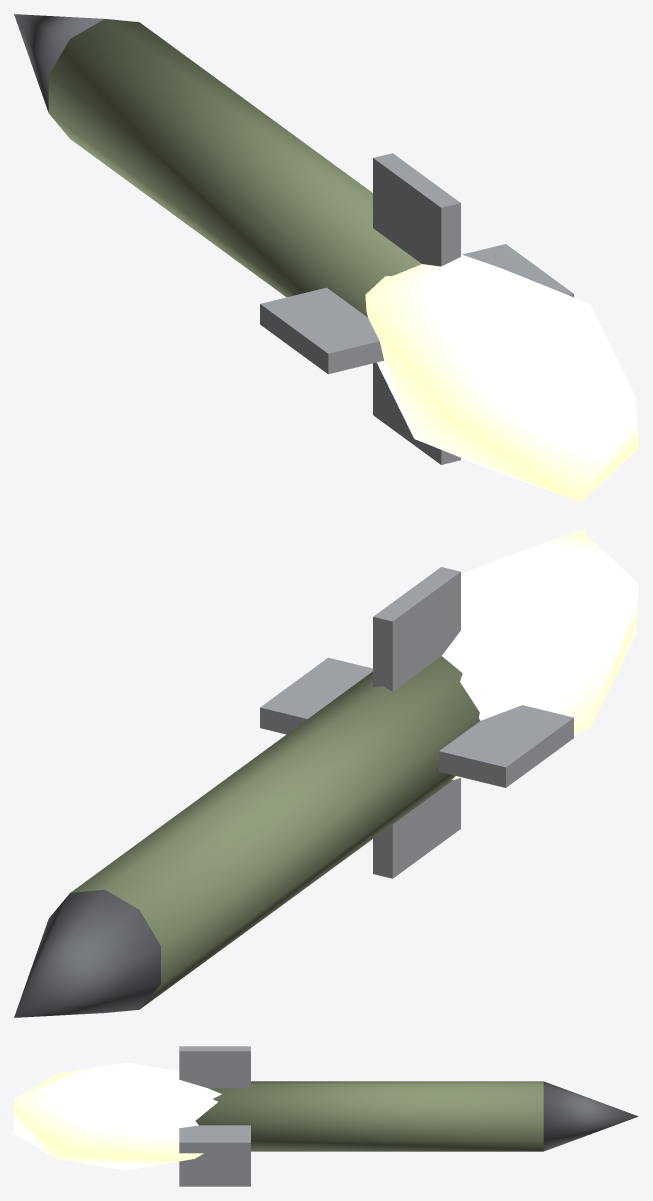
Rendered from rocket.gltf.
The picture shows the model from 3 angles, top to bottom: view 1: azimuth 30°, elevation 25°; view 2: azimuth 150°, elevation 25°; view 3: azimuth 270°, elevation 25°; orthographic projection. The views are drawn at different scales.
Parts seen in each view (by area): view 1: rocket; view 2: rocket; view 3: rocket.
Part boxes in pixels (left/top/right/bottom): rocket: left=14, top=14, right=638, bottom=501; rocket: left=14, top=530, right=638, bottom=1017; rocket: left=14, top=1046, right=638, bottom=1186.
Bounding box in the file's own units: 0.25 × 0.25 × 1.05.
